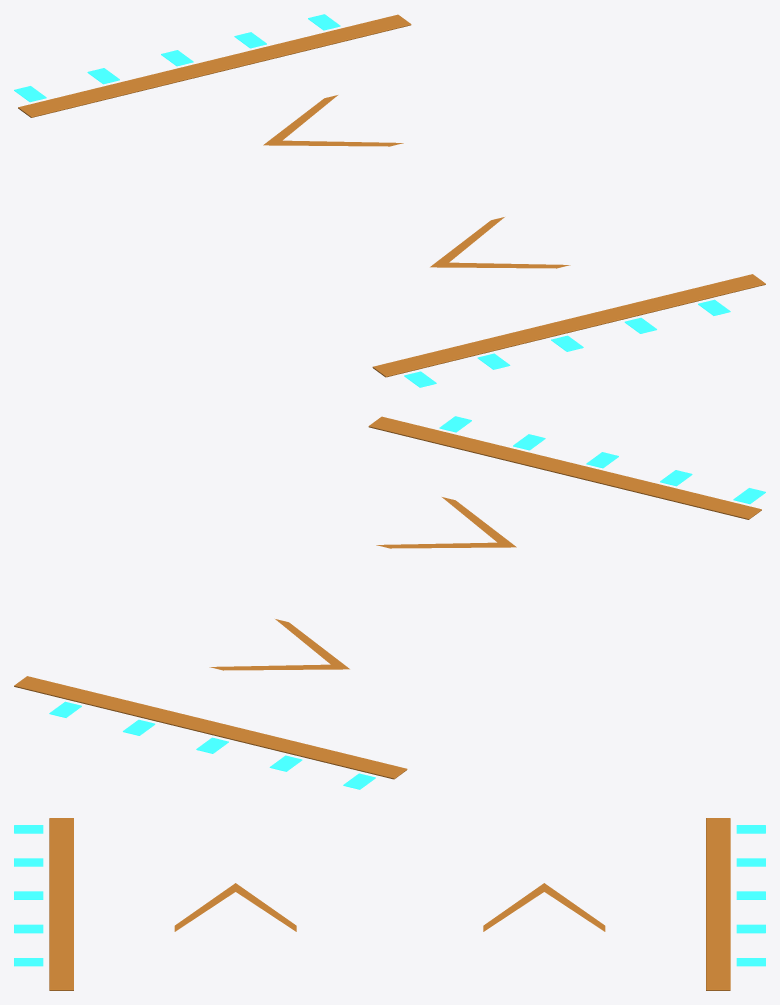
The model's file is w6b-landing-index.glb.
3 renders of one model, top to bottom at view 1: azimuth 30°, elevation 25°; view 2: azimuth 150°, elevation 25°; view 3: azimuth 270°, elevation 25°, orthographic. The views are drawn at different scales.
Parts seen in each view (by area): view 1: Flush touchdown strip.001, Flush touchdown strip, Go on to the sliders.001, Go on to the sliders; view 2: Flush touchdown strip, Flush touchdown strip.001, Go on to the sliders, Go on to the sliders.001; view 3: Flush touchdown strip, Flush touchdown strip.001, Go on to the sliders, Go on to the sliders.001.
Boxes of the visible parts, bbox=[...] form: Flush touchdown strip.001: bbox=[18, 14, 411, 117]; Flush touchdown strip: bbox=[372, 274, 765, 377]; Go on to the sliders.001: bbox=[263, 95, 403, 146]; Go on to the sliders: bbox=[430, 217, 570, 268]; Flush touchdown strip: bbox=[368, 416, 761, 519]; Flush touchdown strip.001: bbox=[14, 676, 407, 779]; Go on to the sliders: bbox=[376, 497, 516, 548]; Go on to the sliders.001: bbox=[209, 619, 349, 670]; Flush touchdown strip: bbox=[49, 818, 73, 990]; Flush touchdown strip.001: bbox=[706, 818, 730, 990]; Go on to the sliders: bbox=[174, 883, 296, 931]; Go on to the sliders.001: bbox=[483, 883, 605, 931].
Bounding box in the file's own units: 2.9 × 0.011 × 5.36.
